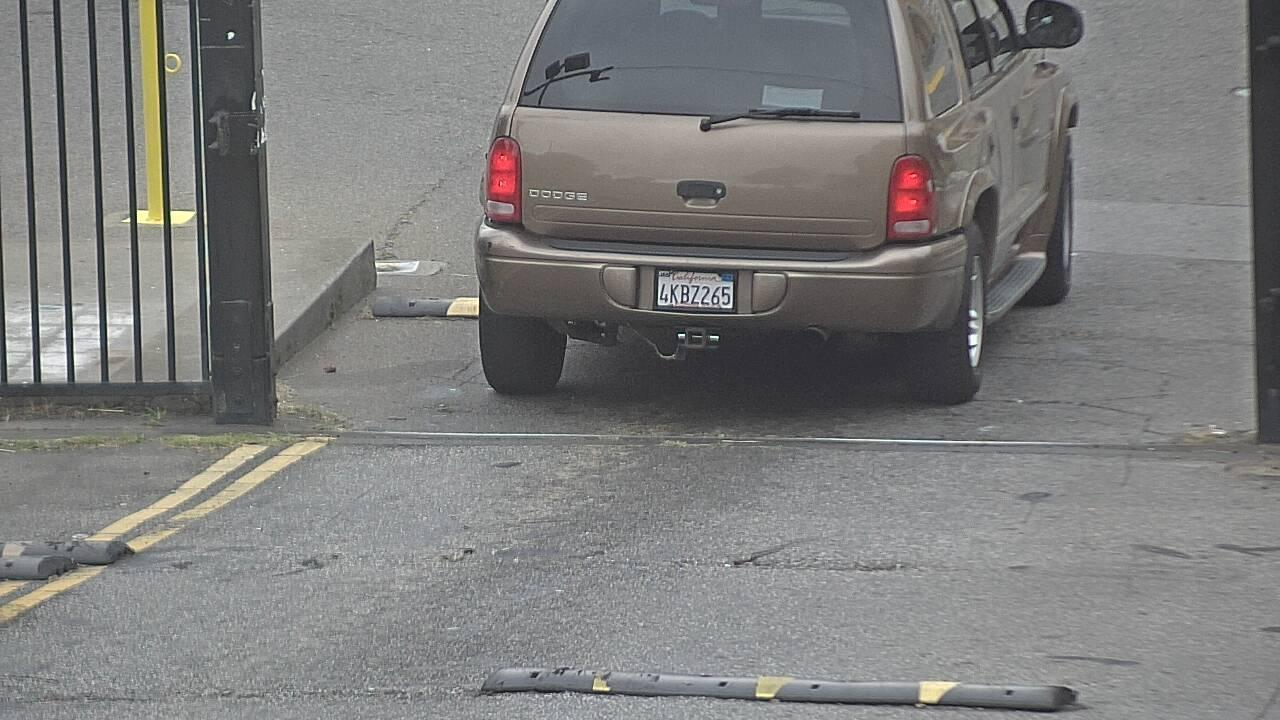placa de veiculo: (648, 262, 748, 317)
